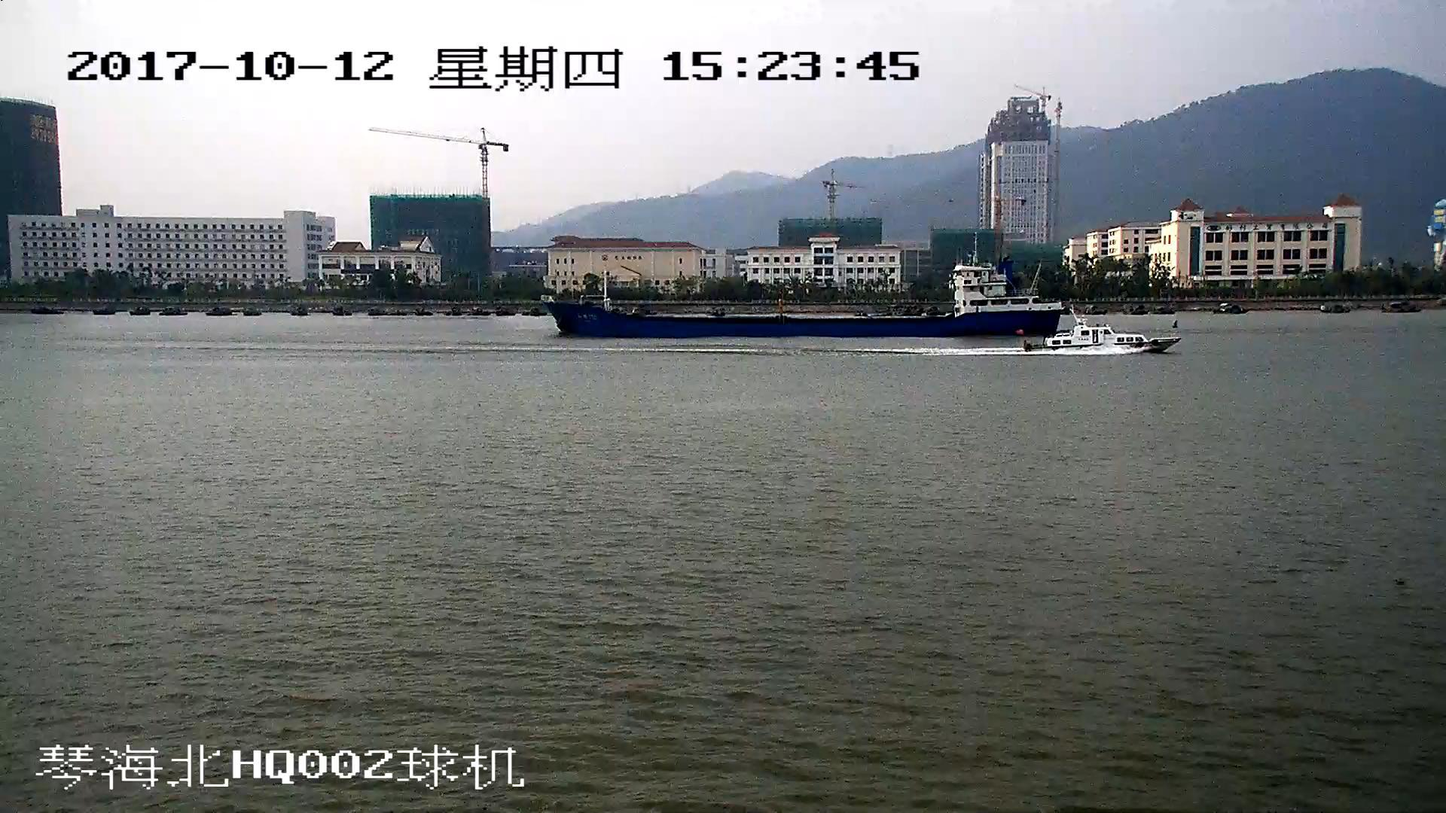bulk cargo carrier: (541, 239, 1056, 335)
passenger ship: (1033, 323, 1172, 358)
